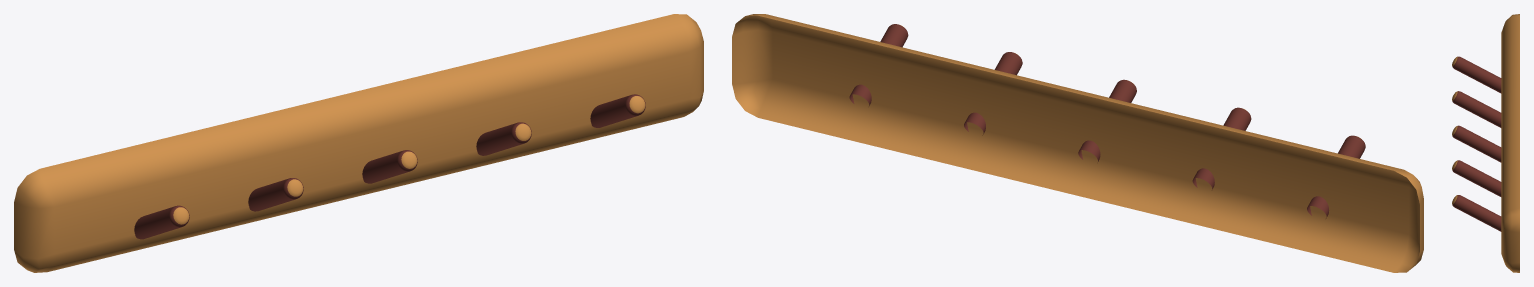
File: SM_ApronRack.fbx
3 views of the same model, side by side, from view 1: azimuth 30°, elevation 25°; view 2: azimuth 150°, elevation 25°; view 3: azimuth 270°, elevation 25° (orthographic). The views are drawn at different scales.
Visible parts, largest first — view 1: SM_Rack, SM_RackPeg; view 2: SM_Rack, SM_RackPeg; view 3: SM_Rack, SM_RackPeg.
Boxes of the visible parts, <box> form: SM_Rack: <box>14,14,703,272</box>; SM_RackPeg: <box>134,94,645,239</box>; SM_Rack: <box>732,14,1423,272</box>; SM_RackPeg: <box>849,24,1365,218</box>; SM_Rack: <box>1501,14,1519,272</box>; SM_RackPeg: <box>1452,56,1501,231</box>.
Bounding box in the file's own units: 257 × 36.55 × 35.54.
1 material, 1 textured.
